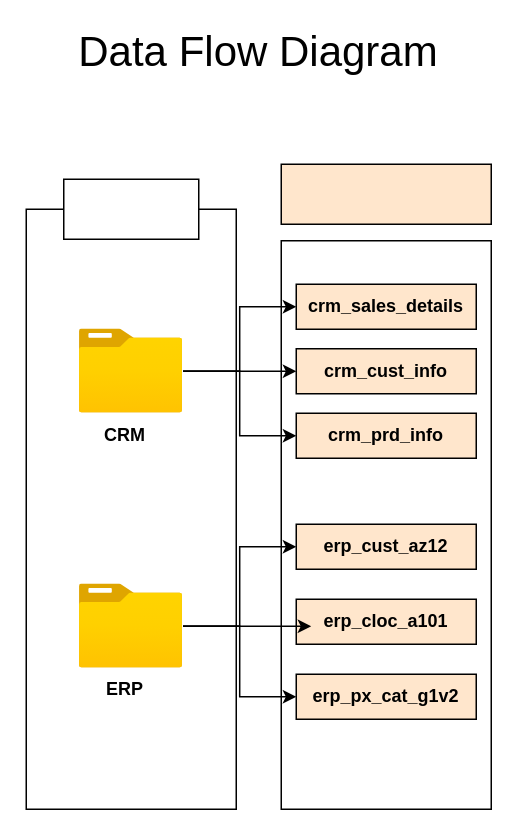
The diagram is 518 pixels wide and 836 high, and some of its shapes have lost their labels. Here are the shapes that lost their labels. From the top down, the centre of each, then its label:
At (x=130, y=208): "Sources".
At (x=385, y=193): "Bronze".
